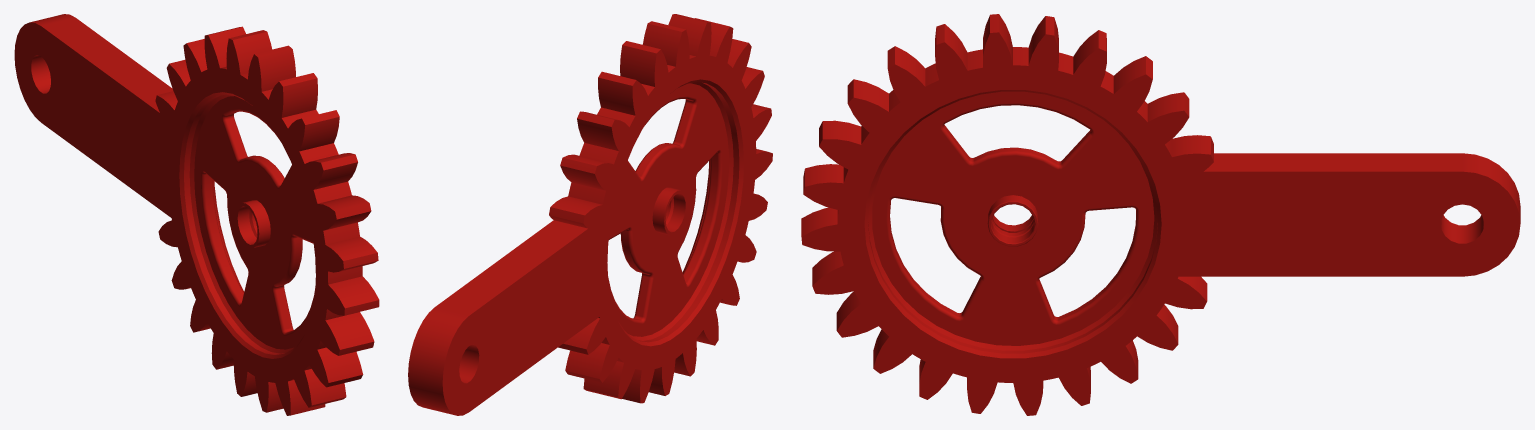
Rendered from Gear link 1.gltf.
3 renders of one model, left to right at view 1: azimuth 30°, elevation 25°; view 2: azimuth 150°, elevation 25°; view 3: azimuth 270°, elevation 25°, orthographic. The views are drawn at different scales.
Parts seen in each view (by area): view 1: Solid1; view 2: Solid1; view 3: Solid1.
Part boxes in pixels (x1,y1,x2,y2): Solid1: (14,14,379,415); Solid1: (408,14,772,415); Solid1: (801,14,1520,415).
Size of the model in its own units: 0.003 by 0.0292 by 0.0496.
